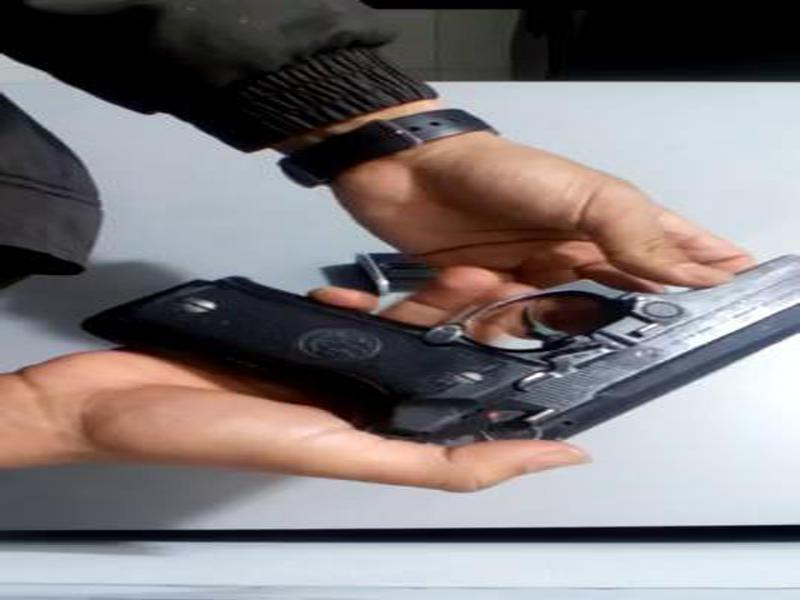Pistola: (97, 222, 800, 477)
